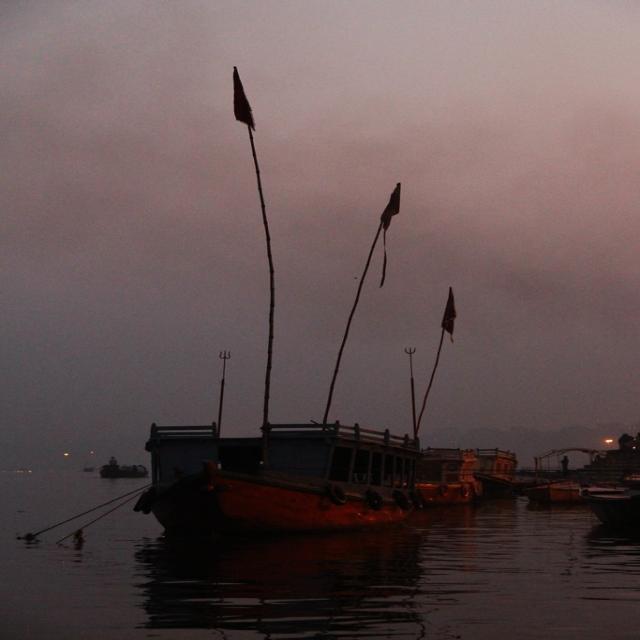boat: (137, 410, 416, 550), (534, 476, 579, 506)
